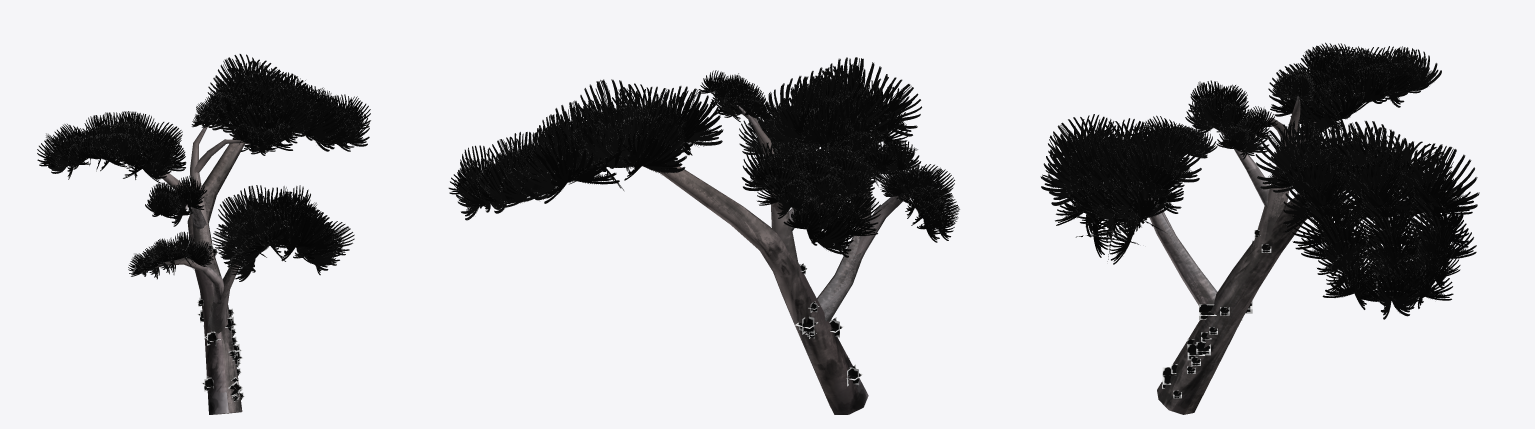
Rendered from Tree_A.fbx.
3 views of the same model, side by side, from view 1: azimuth 30°, elevation 25°; view 2: azimuth 150°, elevation 25°; view 3: azimuth 270°, elevation 25° (orthographic). The views are drawn at different scales.
Visible parts, largest first — view 1: trunk_A, leafAB1 (×2), leafAC1 (×2), leafAA2 (×2), leafAB (×2), leafAC (×2), leafAA (×2), leafAC2 (×2), leafAB2 (×2), leafAA1, leafAD, leafAD1 (+6 smaller); view 2: leafAB2 (×2), trunk_A, leafAC2 (×2), leafAA1 (×2), leafAB (×2), leafAB1 (×2), leafAA2 (×2), leafAC1 (×2), leafAA (×2), leafAC (×2), leafAD1 (×2), leafAD (+5 smaller); view 3: leafAB1 (×2), leafAB2 (×2), leafAB (×2), trunk_A, leafAC2 (×2), leafAA1 (×2), leafAC1 (×2), leafAC (×2), leafAA (×2), leafAA2, leafAE, leafAF1 (+5 smaller).
Part boxes in pixels (bbox=[...]): trunk_A: bbox=[101, 127, 262, 414]; leafAB1 (×2): bbox=[228, 83, 369, 151]; leafAC1 (×2): bbox=[228, 207, 337, 281]; leafAA2 (×2): bbox=[44, 133, 173, 183]; leafAB (×2): bbox=[218, 67, 370, 134]; leafAC (×2): bbox=[218, 195, 344, 267]; leafAA (×2): bbox=[37, 122, 185, 171]; leafAC2 (×2): bbox=[212, 185, 354, 256]; leafAB2 (×2): bbox=[208, 54, 343, 130]; leafAA1: bbox=[44, 111, 186, 168]; leafAD: bbox=[128, 235, 212, 278]; leafAD1: bbox=[130, 231, 213, 275]; leafAB2 (×2): bbox=[453, 113, 686, 220]; trunk_A: bbox=[642, 105, 937, 414]; leafAC2 (×2): bbox=[739, 76, 875, 185]; leafAA1 (×2): bbox=[741, 141, 850, 254]; leafAB (×2): bbox=[449, 100, 687, 208]; leafAB1 (×2): bbox=[486, 79, 723, 164]; leafAA2 (×2): bbox=[795, 141, 881, 247]; leafAC1 (×2): bbox=[805, 57, 921, 172]; leafAA (×2): bbox=[767, 141, 862, 257]; leafAC (×2): bbox=[770, 67, 891, 186]; leafAD1 (×2): bbox=[880, 165, 948, 242]; leafAD: bbox=[892, 164, 959, 240]; leafAB1 (×2): bbox=[1255, 119, 1385, 309]; leafAB2 (×2): bbox=[1330, 121, 1479, 310]; leafAB (×2): bbox=[1304, 124, 1426, 319]; trunk_A: bbox=[1111, 96, 1337, 414]; leafAC2 (×2): bbox=[1103, 123, 1201, 264]; leafAA1 (×2): bbox=[1299, 49, 1441, 137]; leafAC1 (×2): bbox=[1040, 114, 1131, 257]; leafAC (×2): bbox=[1072, 118, 1173, 261]; leafAA (×2): bbox=[1283, 46, 1428, 135]; leafAA2: bbox=[1268, 42, 1404, 116]; leafAE: bbox=[1185, 94, 1250, 134]; leafAF1: bbox=[1216, 120, 1269, 155].
Size of the model in its own units: 728 by 571 by 696.
